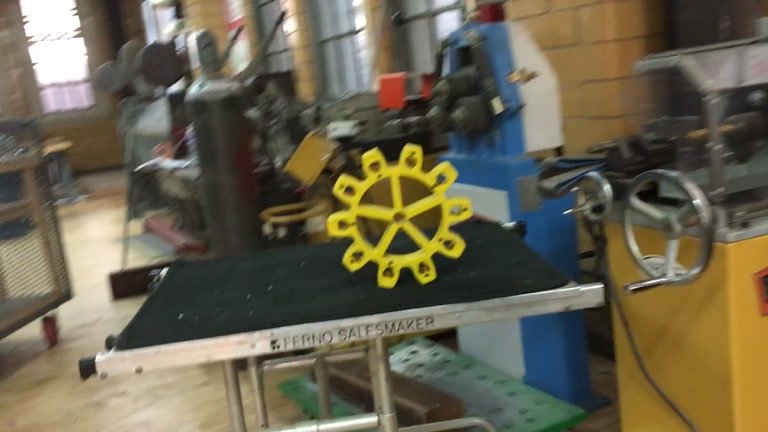gear: (325, 144, 472, 290)
